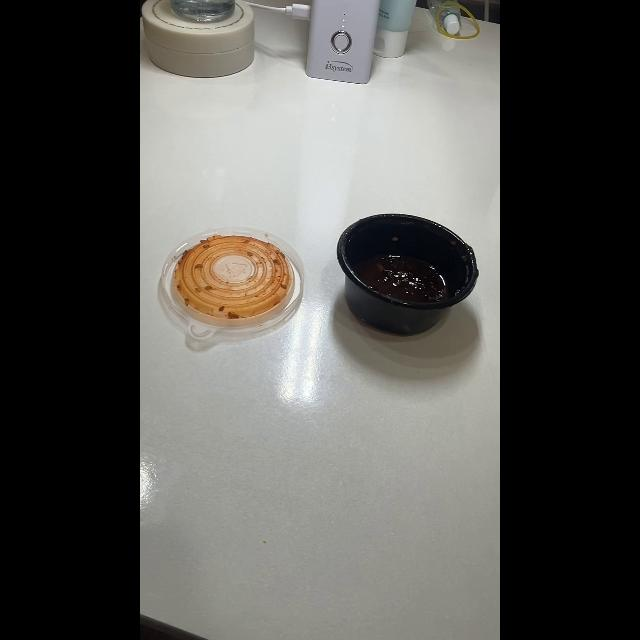dirty: (336, 213, 479, 337), (160, 229, 302, 335)
